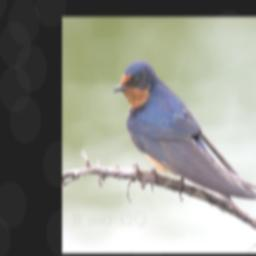Swallow: (112, 58, 256, 206)
